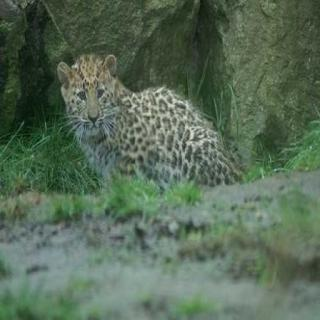Leopard: (44, 48, 248, 191)
